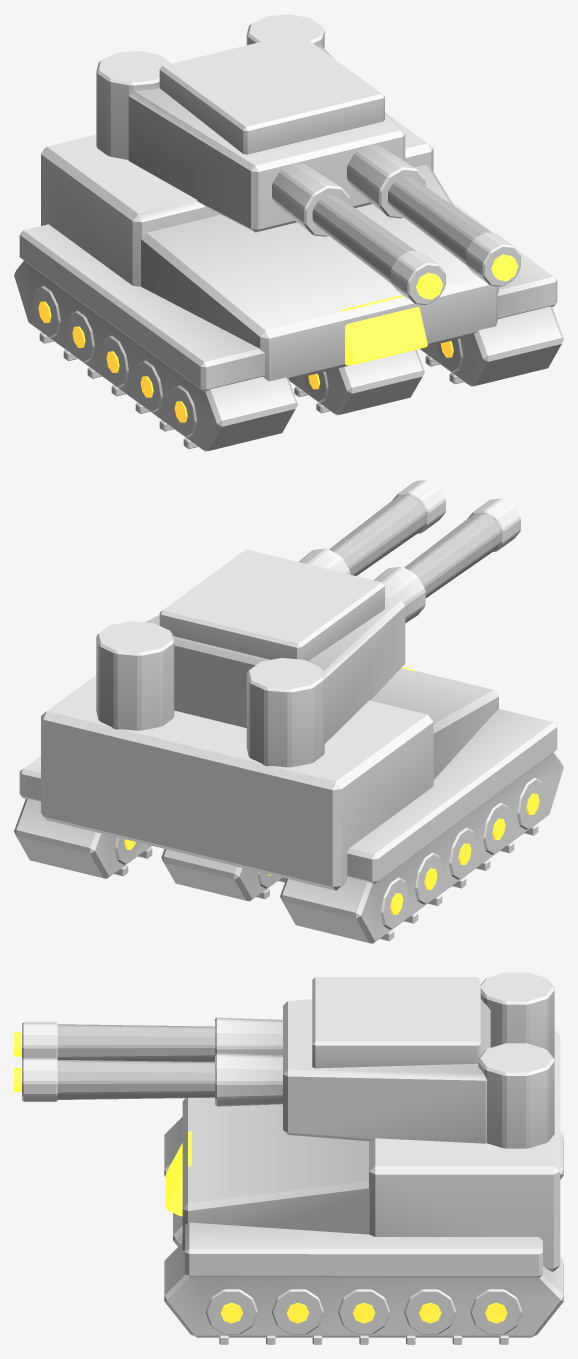
The model's file is e4_sand_juggernaut.glb.
The picture shows the model from 3 angles, top to bottom: view 1: azimuth 30°, elevation 25°; view 2: azimuth 150°, elevation 25°; view 3: azimuth 270°, elevation 25°; orthographic projection. The views are drawn at different scales.
Parts seen in each view (by area): view 1: HullFront, TurretCap, TurretHull, HullRear, Track_L_Fender, Track_L_Belt, Track_R_Belt, FilterTower_-0.52, Track_C_Belt, HowitzerTube_-0.26, HowitzerTube_0.26, SandGrille (+13 smaller); view 2: HullRear, TurretCap, TurretHull, Track_L_Fender, Track_L_Belt, FilterTower_-0.52, FilterTower_0.52, HullFront, Track_R_Belt, HowitzerTube_-0.26, HowitzerTube_0.26, Track_C_Belt (+10 smaller); view 3: HullFront, HullRear, TurretHull, Track_R_Fender, TurretCap, Track_R_Belt, FilterTower_0.52, HowitzerTube_0.26, HowitzerTube_-0.26, FilterTower_-0.52, HowitzerBase_0.26, HowitzerBase_-0.26 (+9 smaller).
Boxes of the visible parts, <box> form: HullFront: <box>141,164,498,381</box>; TurretCap: <box>159,33,384,154</box>; TurretHull: <box>128,45,405,232</box>; HullRear: <box>41,112,433,286</box>; Track_L_Fender: <box>19,224,264,391</box>; Track_L_Belt: <box>14,261,297,451</box>; Track_R_Belt: <box>420,306,563,386</box>; FilterTower_-0.52: <box>96,51,171,159</box>; Track_C_Belt: <box>289,349,424,415</box>; HowitzerTube_-0.26: <box>312,195,416,283</box>; HowitzerTube_0.26: <box>388,176,491,264</box>; SandGrille: <box>341,294,427,365</box>; HullRear: <box>41,675,433,890</box>; TurretCap: <box>159,549,384,661</box>; TurretHull: <box>145,596,405,743</box>; Track_L_Fender: <box>347,709,557,883</box>; Track_L_Belt: <box>280,752,563,943</box>; FilterTower_-0.52: <box>246,658,324,767</box>; FilterTower_0.52: <box>96,621,174,730</box>; HullFront: <box>370,668,498,779</box>; Track_R_Belt: <box>14,798,151,878</box>; HowitzerTube_-0.26: <box>404,513,501,597</box>; HowitzerTube_0.26: <box>329,495,426,575</box>; Track_C_Belt: <box>161,849,281,901</box>; HullFront: <box>182,1097,369,1250</box>; HullRear: <box>369,1030,560,1271</box>; TurretHull: <box>283,999,490,1143</box>; Track_R_Fender: <box>185,1222,542,1277</box>; TurretCap: <box>312,977,480,1068</box>; Track_R_Belt: <box>164,1243,563,1337</box>; FilterTower_0.52: <box>478,1043,554,1148</box>; HowitzerTube_0.26: <box>57,1060,214,1099</box>; HowitzerTube_-0.26: <box>57,1024,214,1061</box>; FilterTower_-0.52: <box>480,972,554,1058</box>; HowitzerBase_0.26: <box>215,1053,283,1106</box>; HowitzerBase_-0.26: <box>215,1017,283,1055</box>.
Size of the model in its own units: 2.26 by 1.57 by 3.1.
